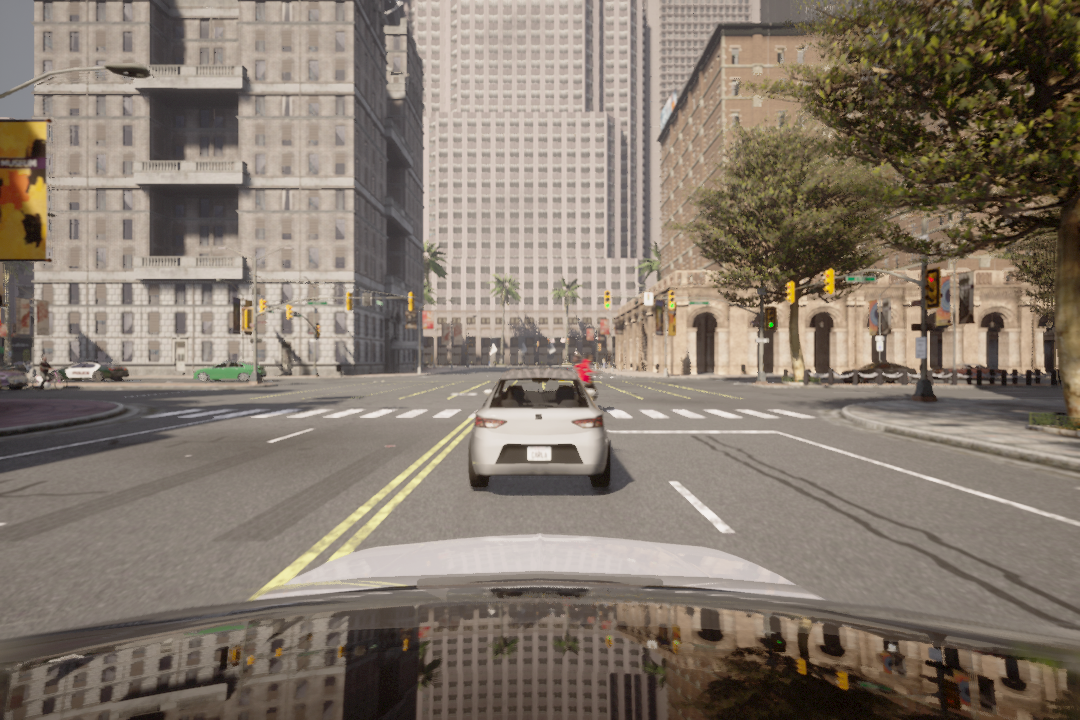TrafficLight: (602, 289, 611, 310)
walkside: (137, 402, 833, 429), (926, 271, 942, 308), (819, 269, 834, 297), (664, 287, 677, 312), (784, 281, 796, 304)
